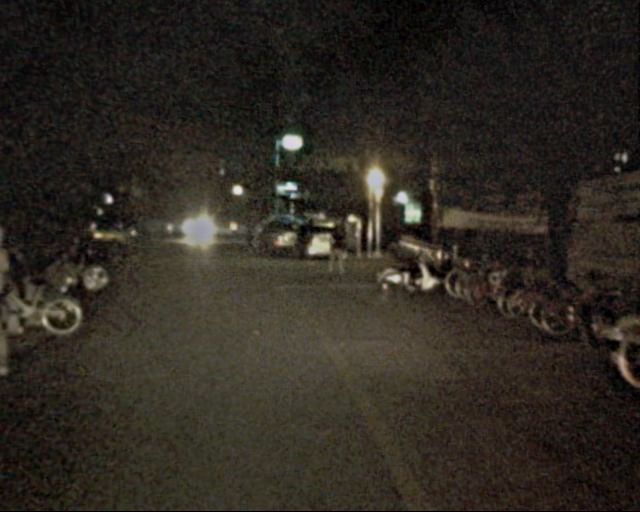person: (1, 239, 31, 352), (322, 227, 346, 286), (241, 224, 252, 251)
